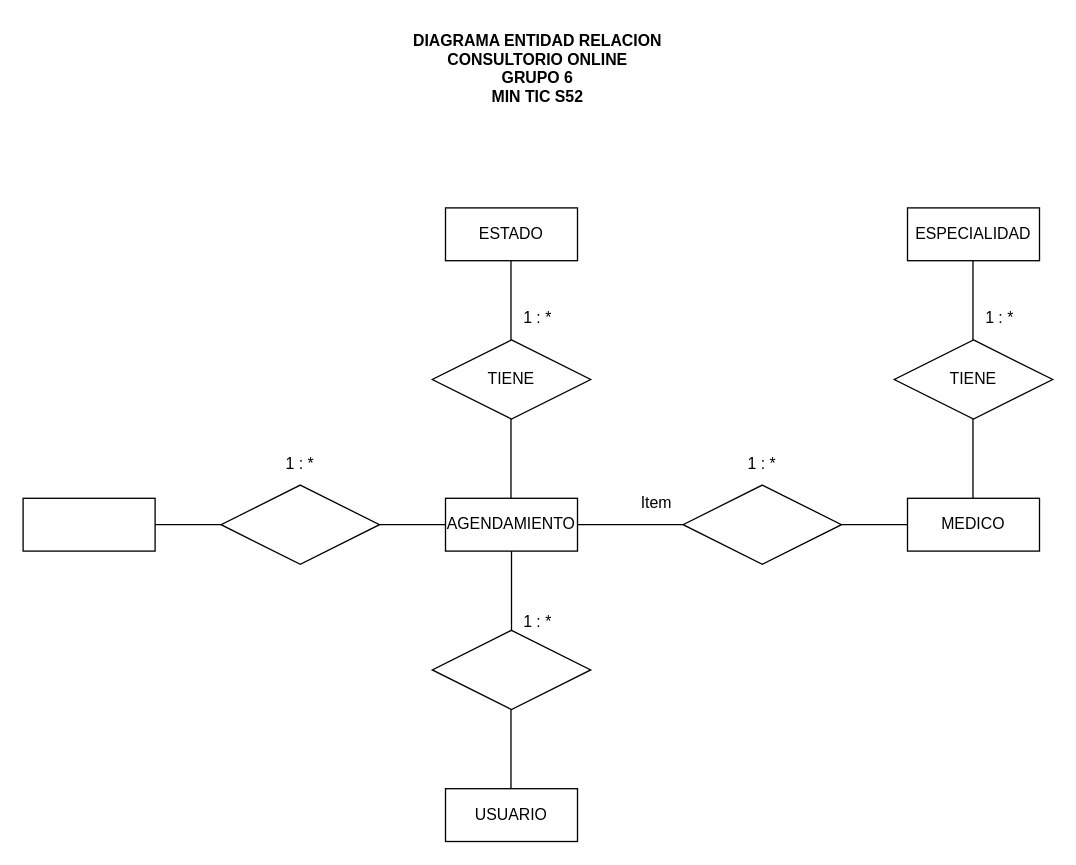
This 1076x865 diagram has some shape labels left out. Here are the shapes that lost their labels. From the top down, the centre of each, then its label:
At pixel 88 524: "PACIENTE".
At pixel 300 524: "REALIZA".
At pixel 762 524: "ASIGNA".
At pixel 511 669: "ADMINISTRA".
